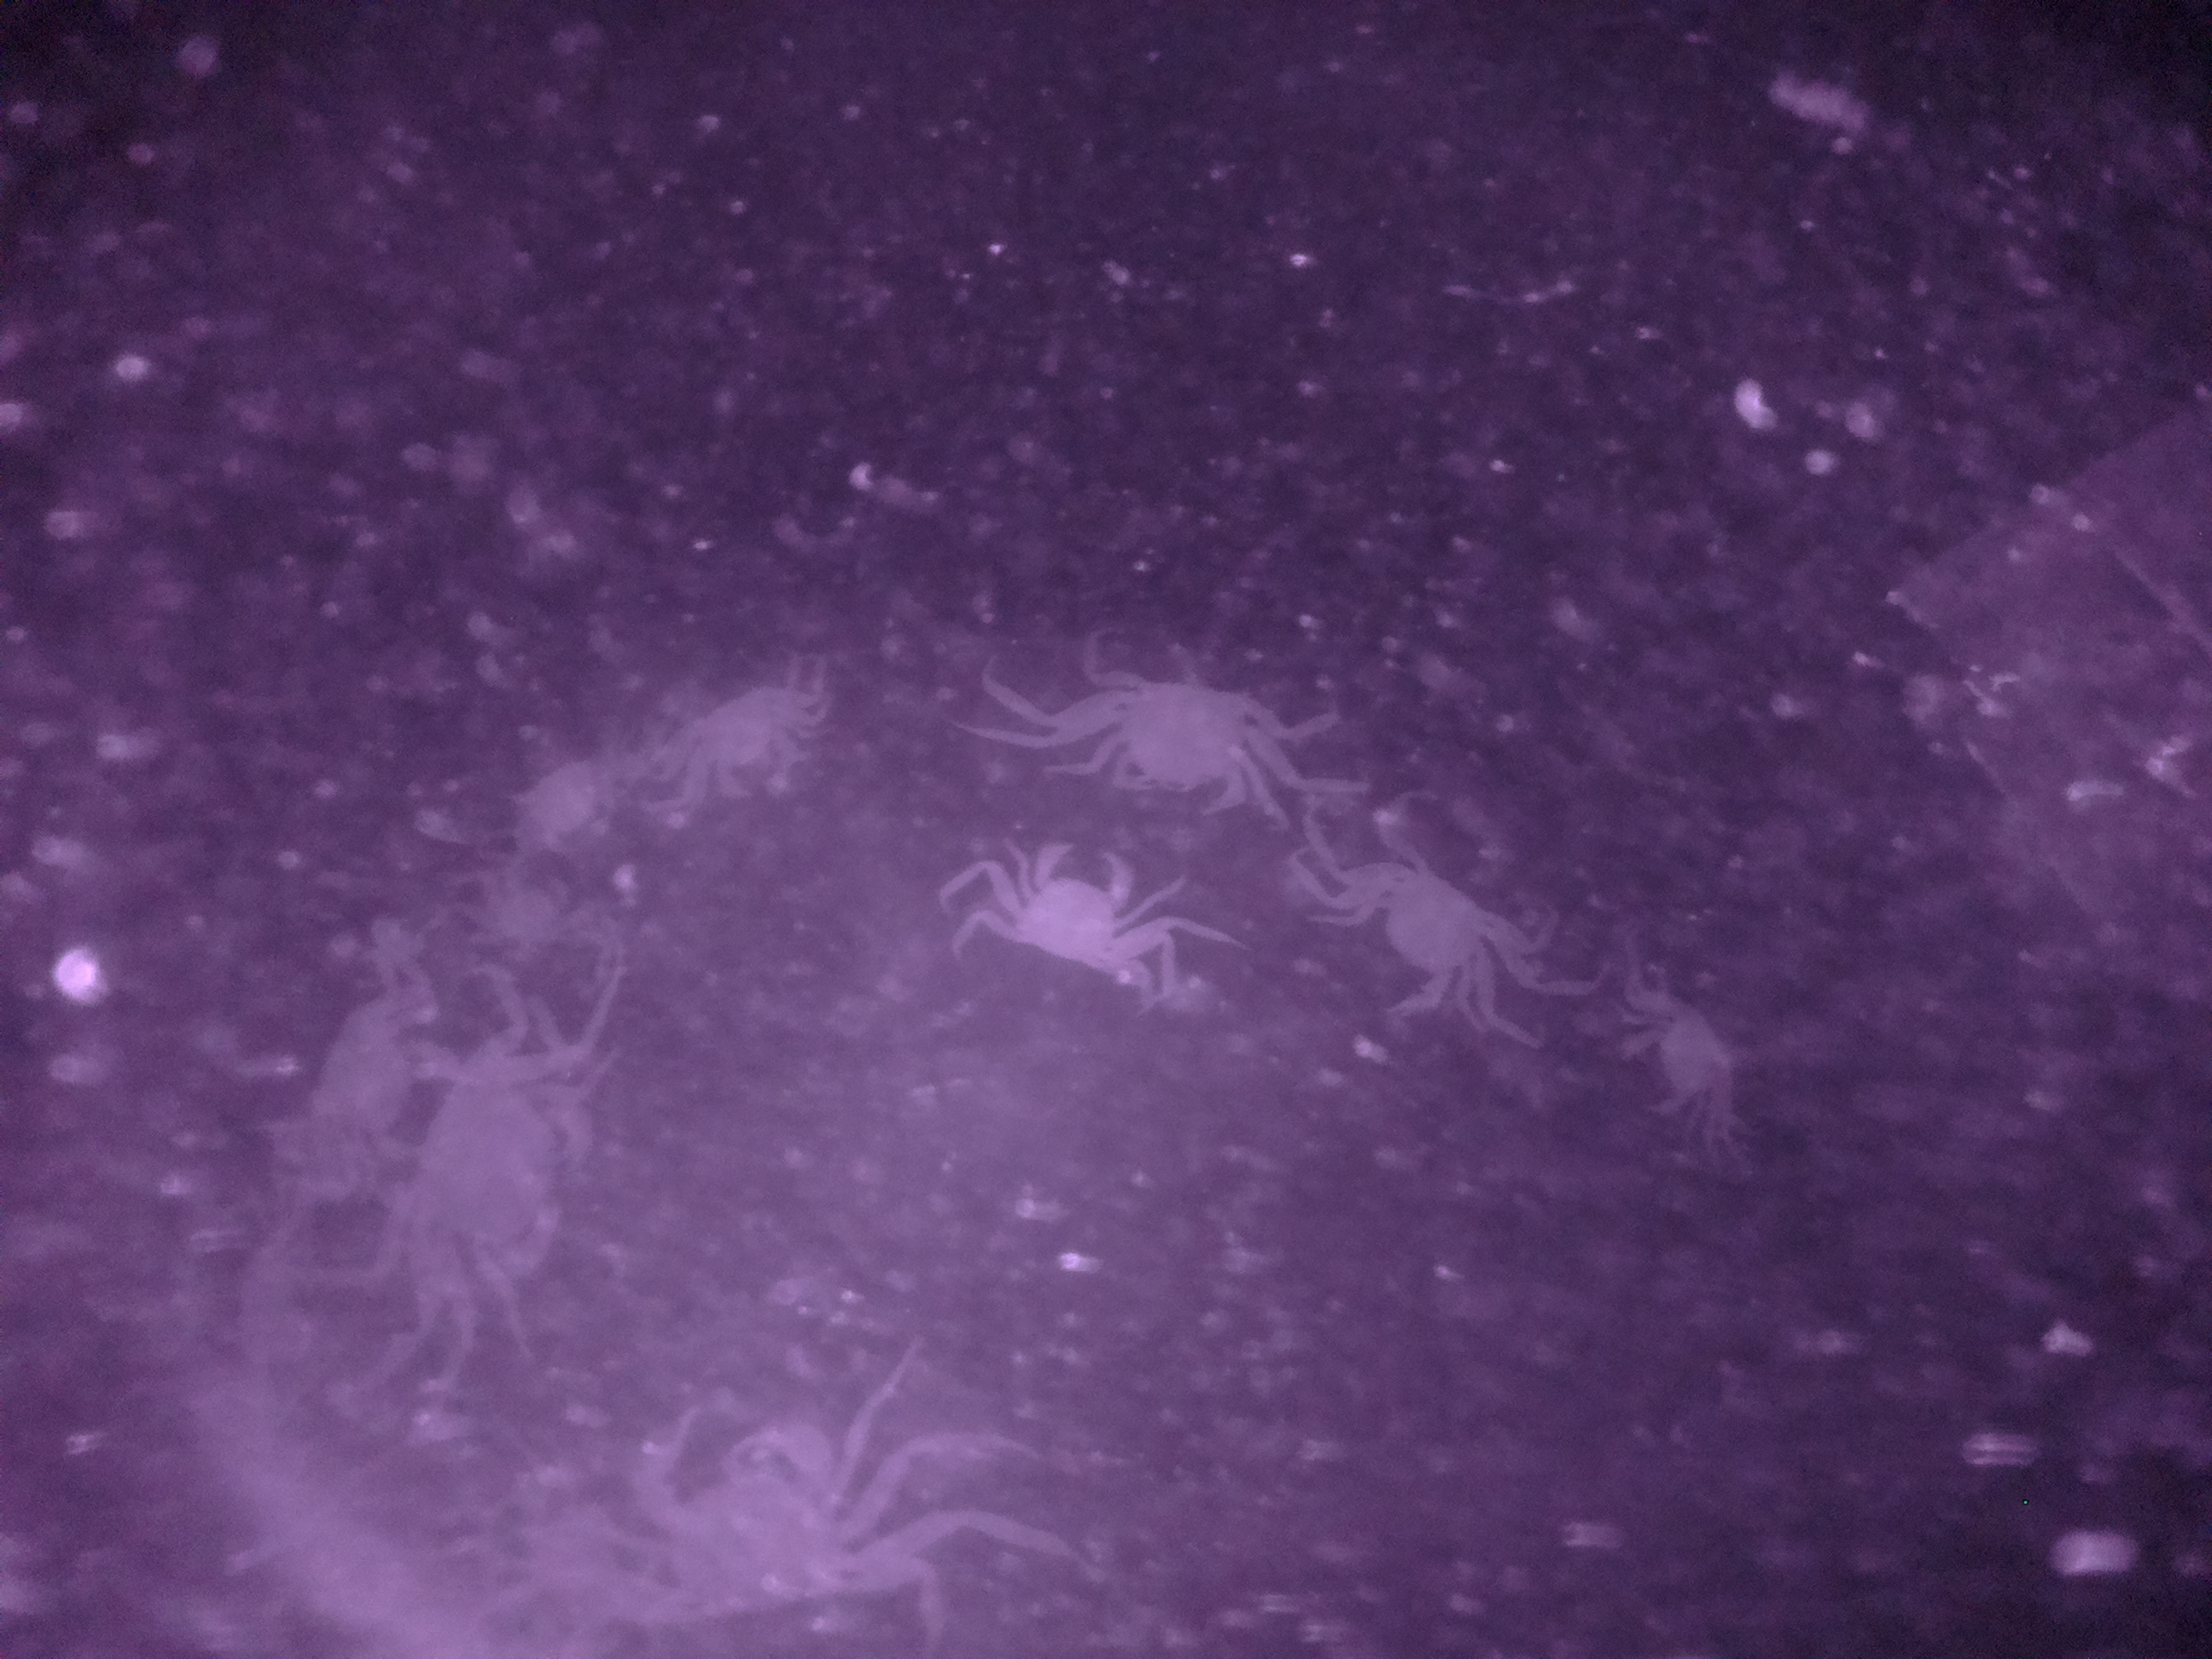Crab: (1315, 835, 1527, 1021), (977, 819, 1170, 995)
